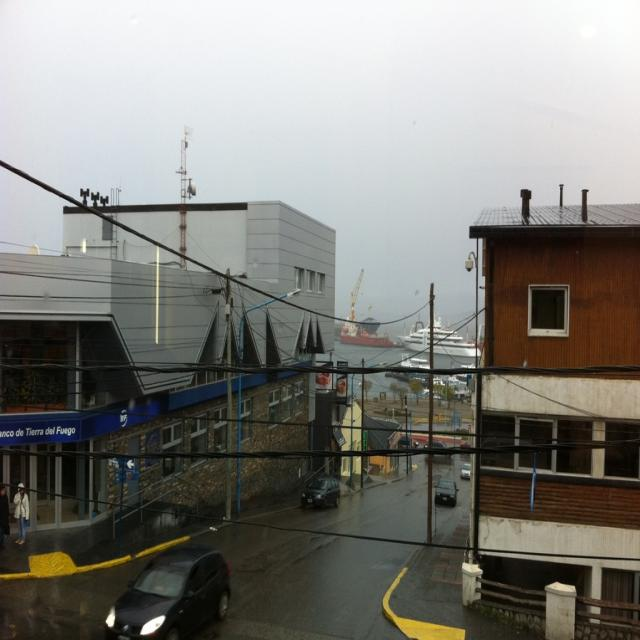car: (300, 473, 338, 508), (434, 477, 457, 507), (462, 460, 470, 478)
